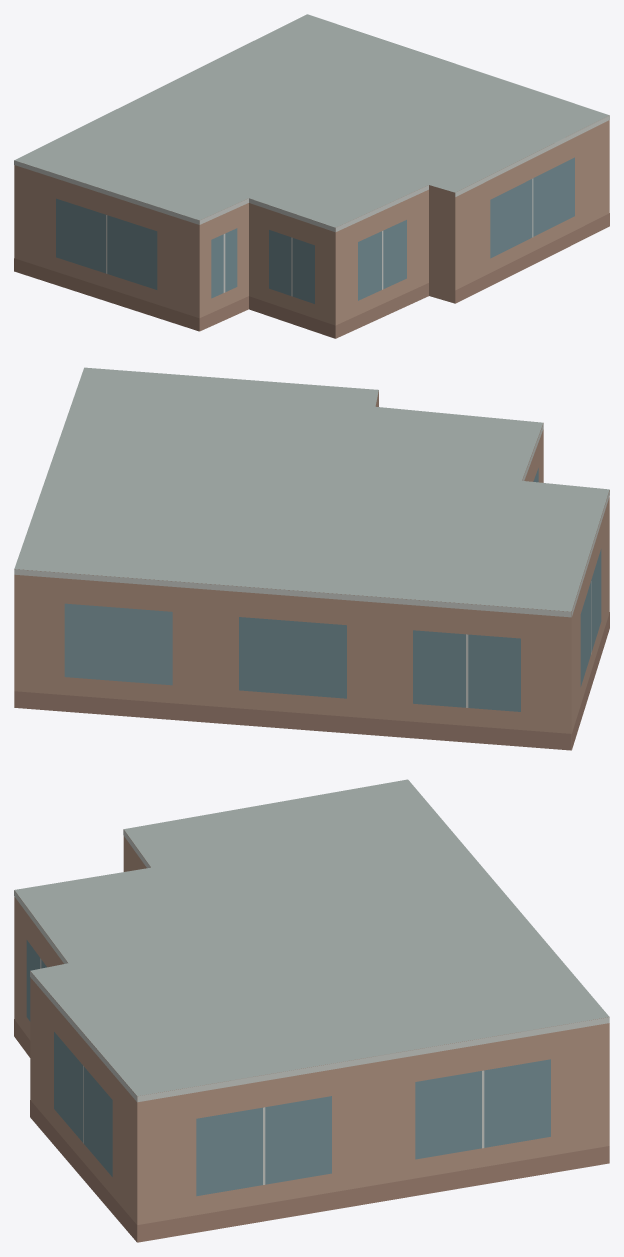
File: survey-upis-32624715.glb
The picture shows the model from 3 angles, top to bottom: view 1: azimuth 30°, elevation 25°; view 2: azimuth 150°, elevation 25°; view 3: azimuth 270°, elevation 25°; orthographic projection. The views are drawn at different scales.
Visible parts, largest first — view 1: survey-upis-32624715.tmp; view 2: survey-upis-32624715.tmp; view 3: survey-upis-32624715.tmp.
Part boxes in pixels (x1,y1,x2,y2): survey-upis-32624715.tmp: [14, 14, 609, 338]; survey-upis-32624715.tmp: [14, 367, 609, 750]; survey-upis-32624715.tmp: [14, 779, 609, 1242].
Bounding box in the file's own units: 14.18 × 3.05 × 11.26.
